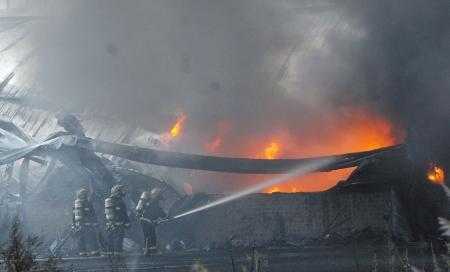fire: (258, 126, 389, 196)
smoke: (76, 8, 429, 104)
